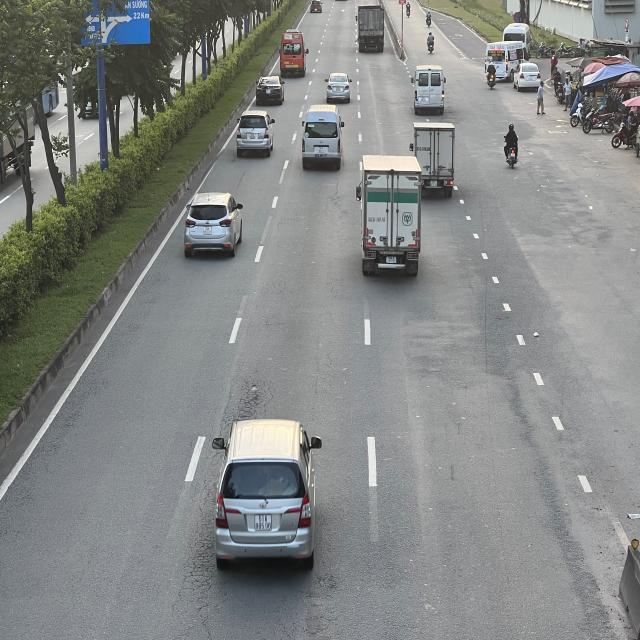car: (210, 416, 320, 570), (185, 191, 244, 253), (234, 107, 276, 158), (252, 72, 284, 106), (322, 73, 353, 105), (513, 60, 543, 92), (309, 0, 324, 15)
coach: (280, 29, 310, 77)
truck: (356, 156, 420, 276), (408, 122, 454, 200), (355, 2, 386, 51)
van: (303, 103, 345, 170), (412, 62, 446, 115), (484, 40, 528, 77)
